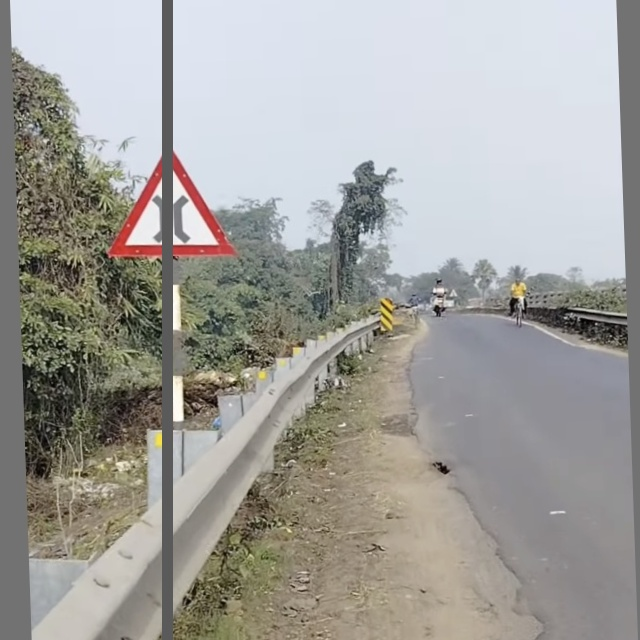Narrow_Bridge: (99, 141, 243, 266)
